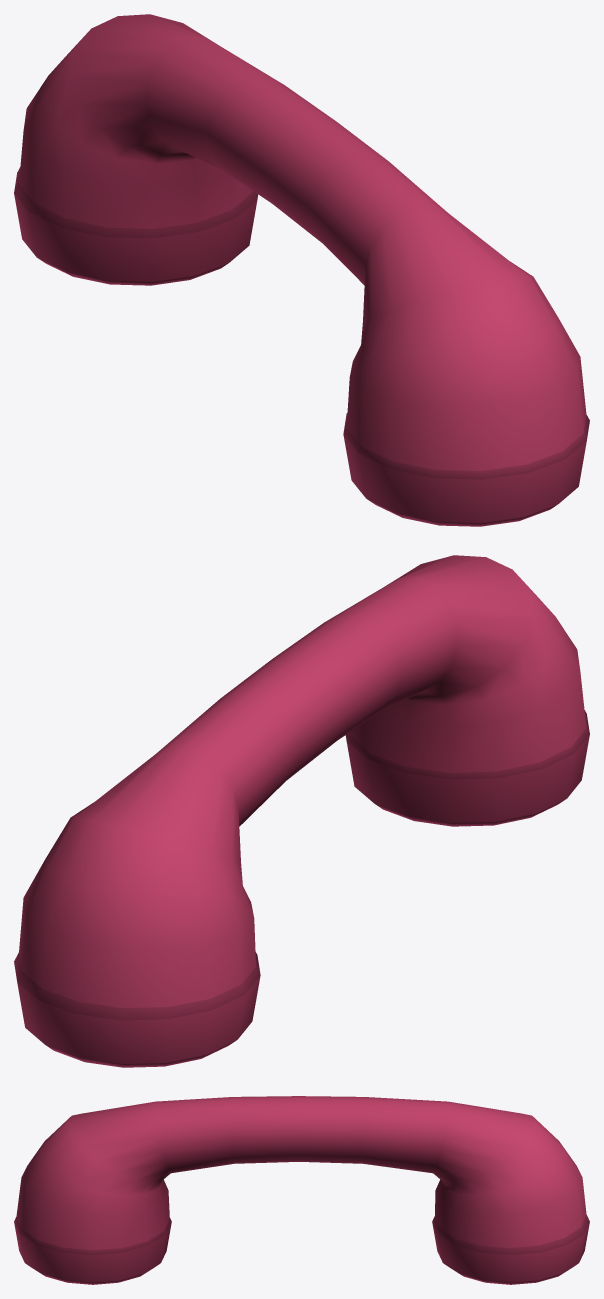
File: human-electronics-telephone-handset_v3.fbx
3 renders of one model, top to bottom at view 1: azimuth 30°, elevation 25°; view 2: azimuth 150°, elevation 25°; view 3: azimuth 270°, elevation 25°, orthographic. The views are drawn at different scales.
Parts seen in each view (by area): view 1: Telephone Handset_v3; view 2: Telephone Handset_v3; view 3: Telephone Handset_v3.
Boxes of the visible parts, box(x1,y1,x2,y2) form: Telephone Handset_v3: box(14, 14, 589, 526); Telephone Handset_v3: box(14, 555, 589, 1067); Telephone Handset_v3: box(14, 1096, 589, 1284).
Bounding box in the file's own units: 0.0603 × 0.067 × 0.22.
